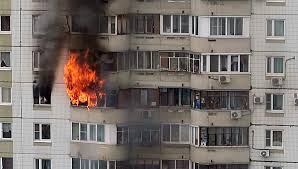fire: (48, 53, 128, 113)
